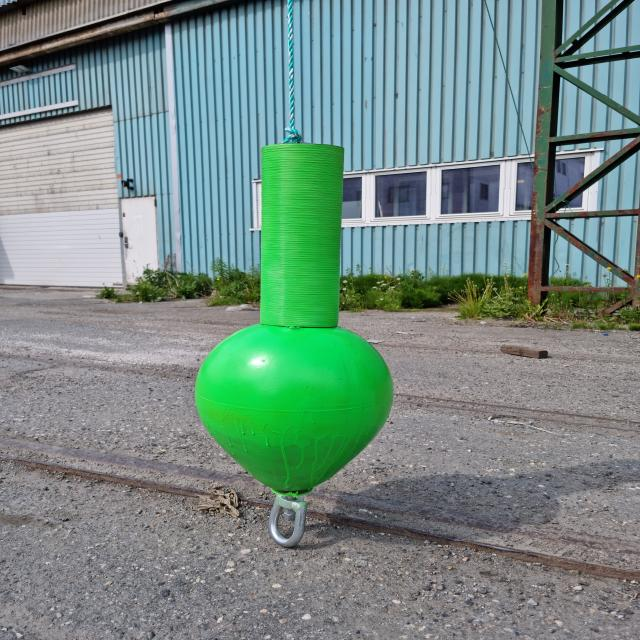green: (195, 145, 394, 494)
